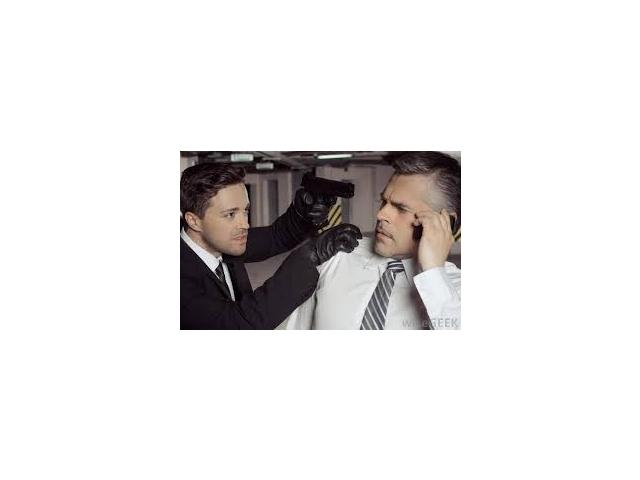pistol: (295, 173, 358, 235)
